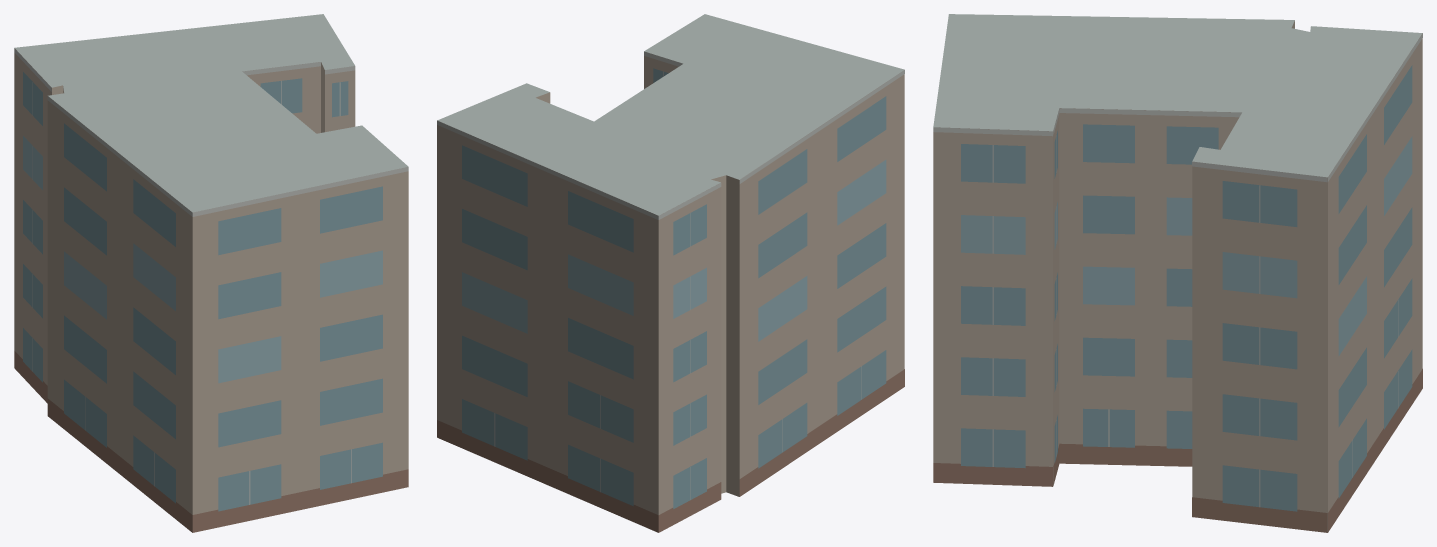
Rendered from survey-upis-32585707.glb.
3 renders of one model, left to right at view 1: azimuth 30°, elevation 25°; view 2: azimuth 150°, elevation 25°; view 3: azimuth 270°, elevation 25°, orthographic. The views are drawn at different scales.
Visible parts, largest first — view 1: survey-upis-32585707.tmp; view 2: survey-upis-32585707.tmp; view 3: survey-upis-32585707.tmp.
Part boxes in pixels (x1,y1,x2,y2): survey-upis-32585707.tmp: [14, 14, 408, 532]; survey-upis-32585707.tmp: [437, 14, 904, 532]; survey-upis-32585707.tmp: [933, 14, 1422, 532].
Bounding box in the file's own units: 17.39 × 17.63 × 22.01.
